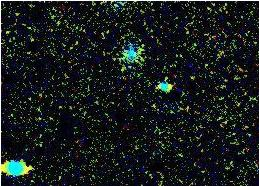star: (141, 89, 171, 119)
